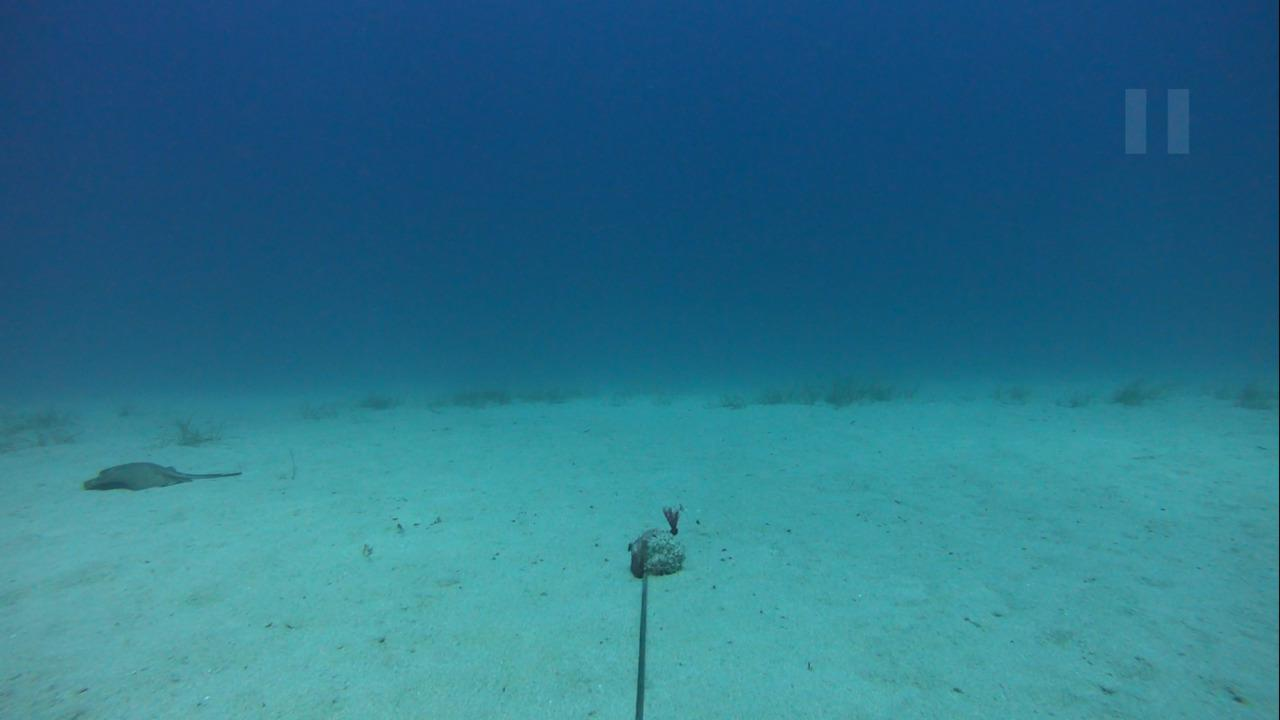myliobatis: (79, 456, 240, 494)
